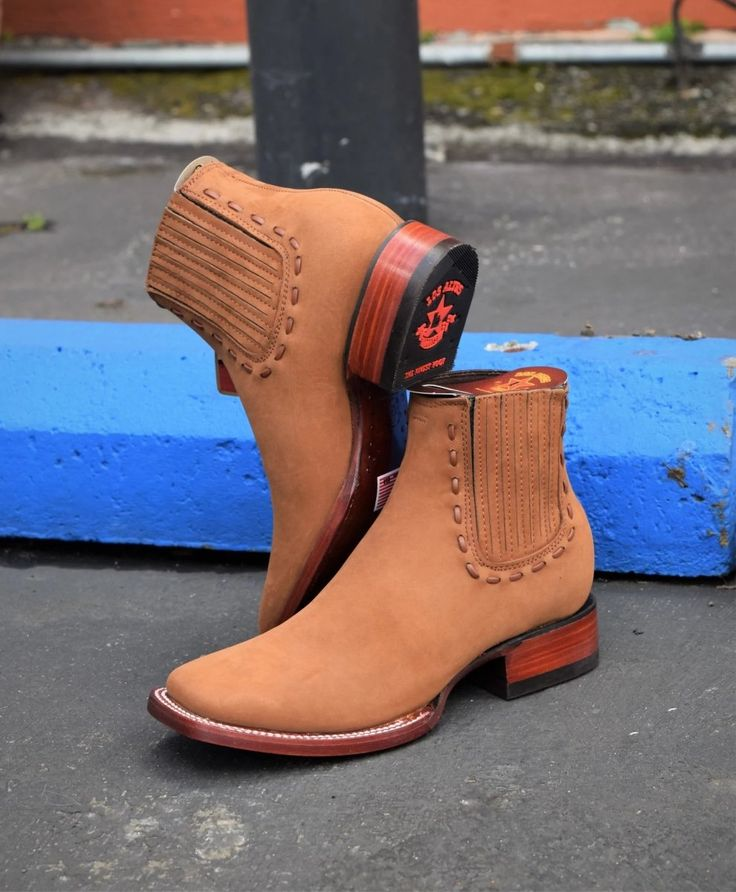gamuza: (146, 160, 595, 730)
